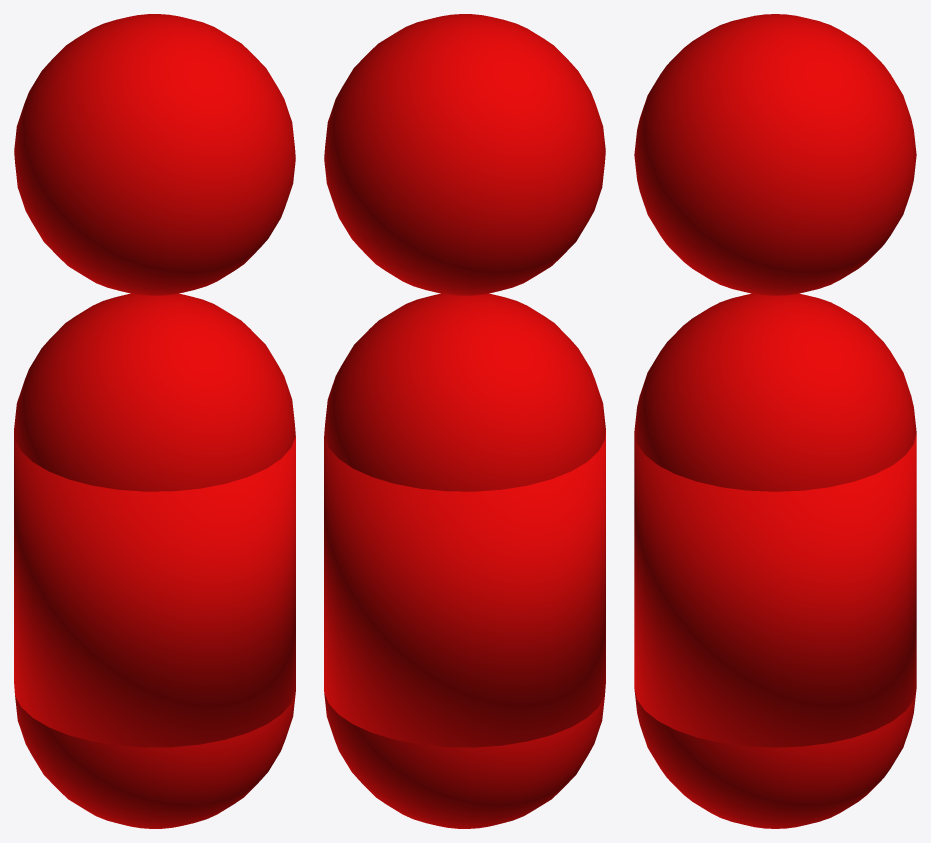
File: enemy_bot.fbx
The picture shows the model from 3 angles, left to right: view 1: azimuth 30°, elevation 25°; view 2: azimuth 150°, elevation 25°; view 3: azimuth 270°, elevation 25°; orthographic projection.
Visible parts, largest first — view 1: bot; view 2: bot; view 3: bot.
Boxes of the visible parts, x1=… form: bot: x1=14, y1=14, x2=295, y2=828; bot: x1=324, y1=14, x2=605, y2=828; bot: x1=634, y1=14, x2=916, y2=828.
Bounding box in the file's own units: 200 × 617 × 200.
